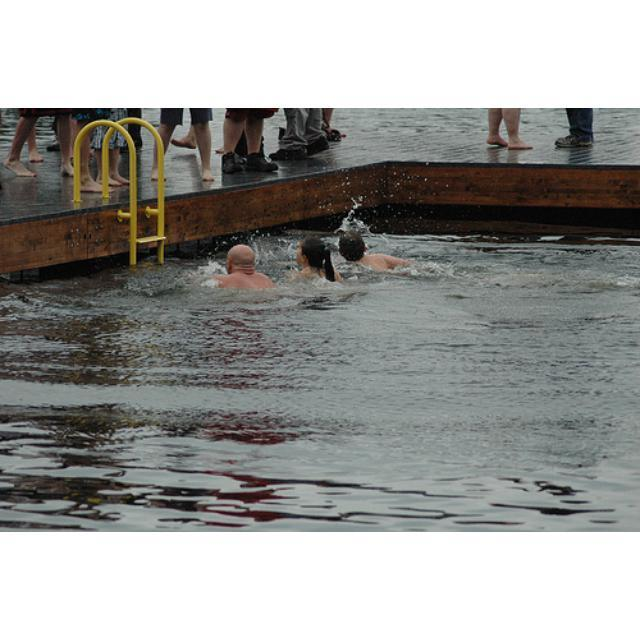human: (337, 234, 411, 277), (215, 244, 277, 292), (289, 236, 345, 284)
